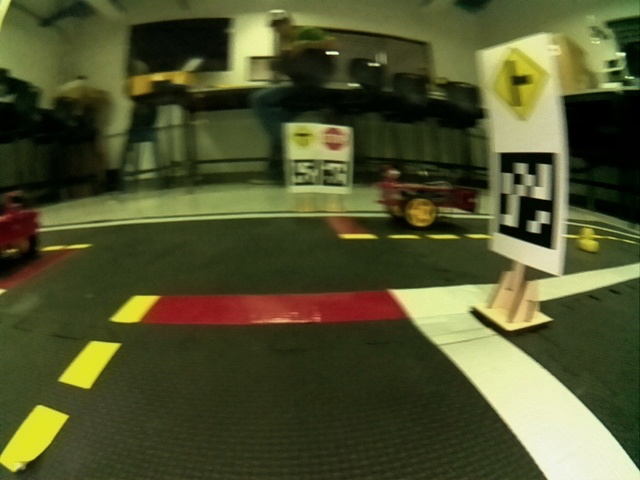linea de pare: (142, 289, 415, 329)
